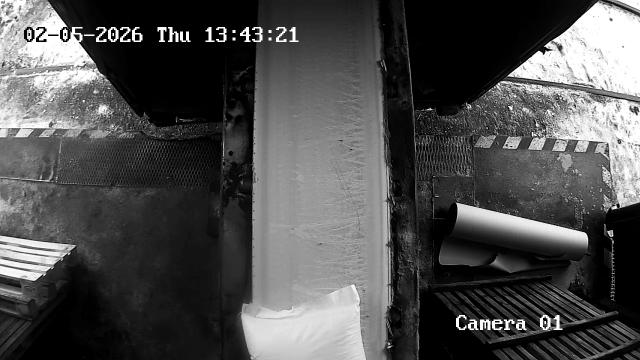bag: (242, 284, 366, 360)
